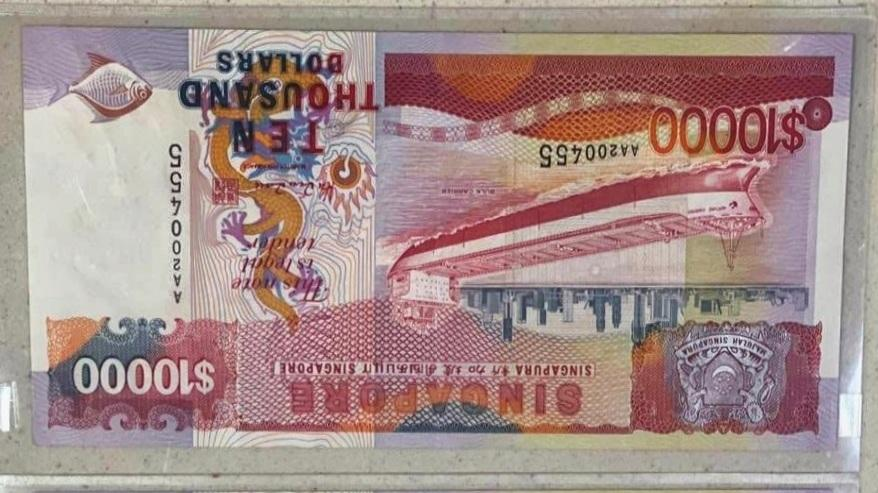10000SingaporeDollar: (36, 37, 837, 447)
